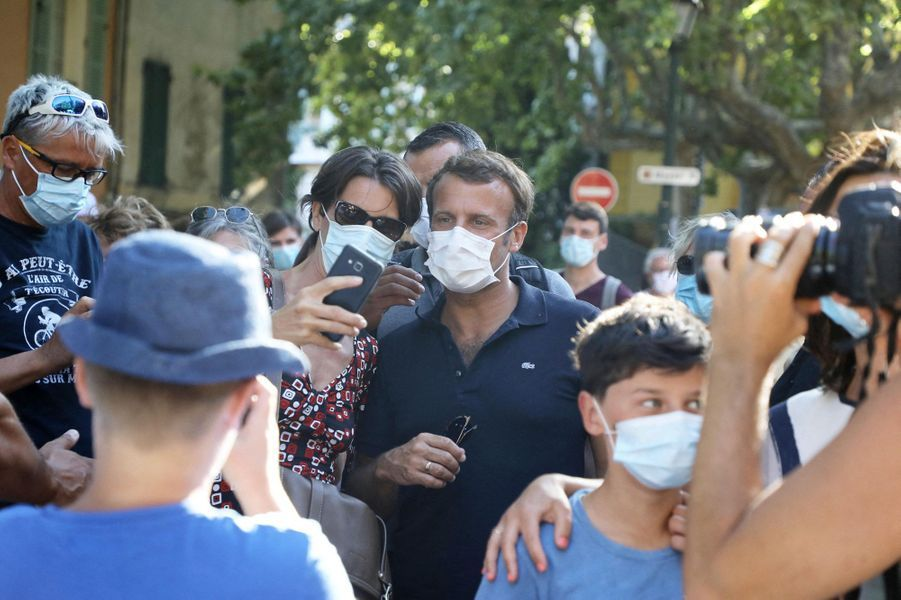with_mask: (612, 369, 709, 490), (427, 195, 514, 291), (25, 139, 100, 229), (325, 194, 400, 282), (264, 220, 304, 273), (560, 218, 603, 267)
